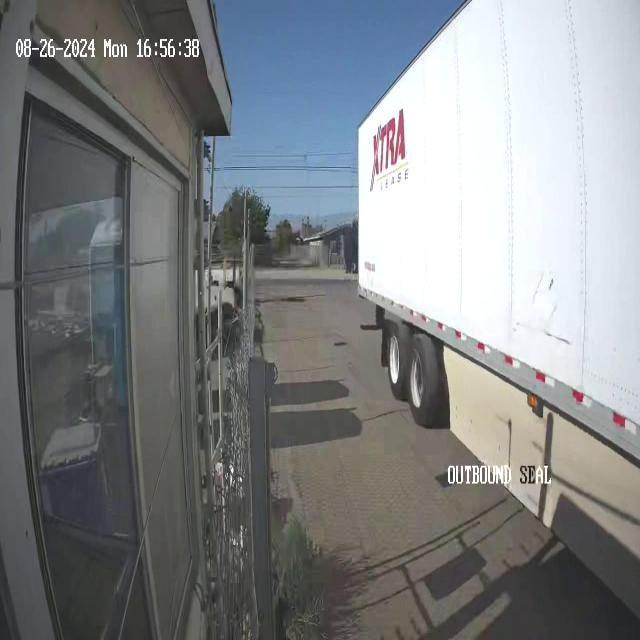CONTAINER: (357, 0, 640, 456)
